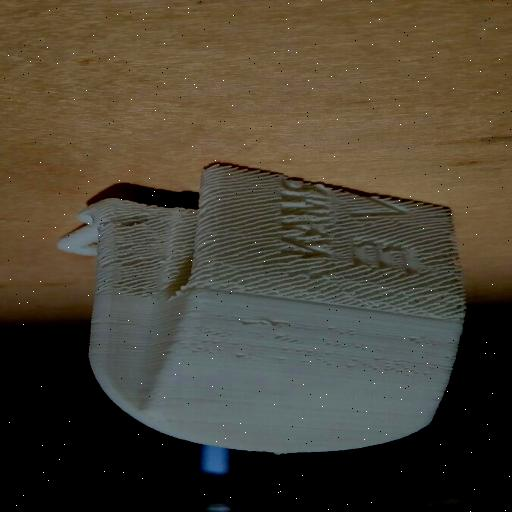cracks: (90, 194, 210, 300)
under_extrusion: (176, 313, 460, 385)
